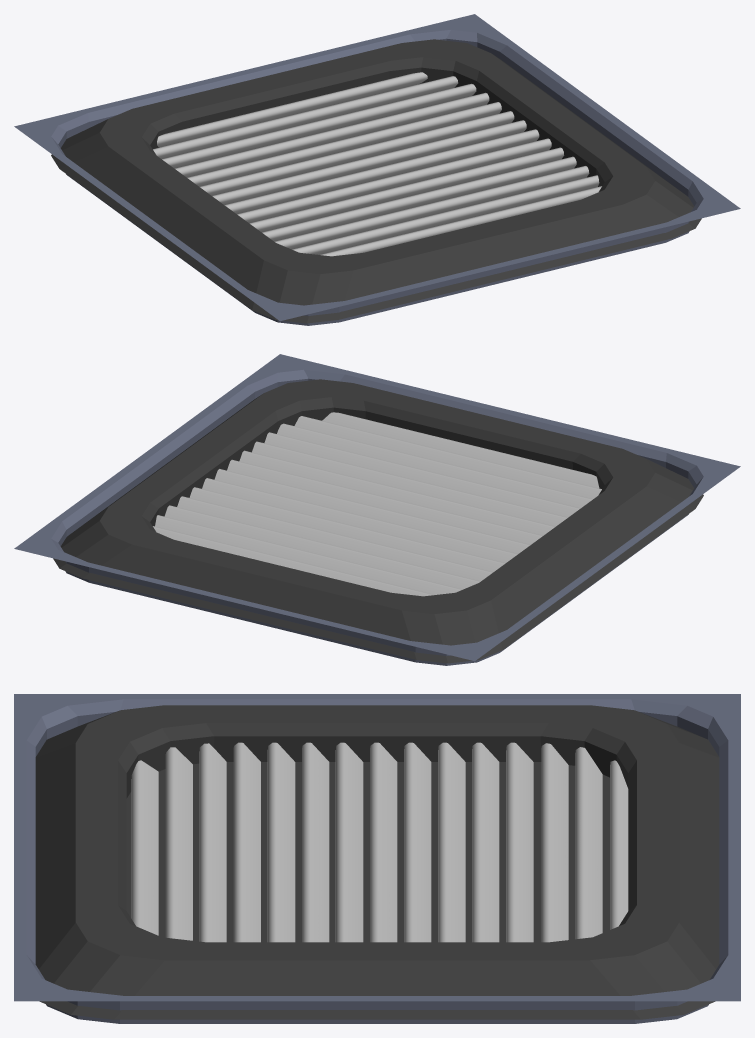
The model's file is AT_SteamVents_Floor.fbx.
The picture shows the model from 3 angles, top to bottom: view 1: azimuth 30°, elevation 25°; view 2: azimuth 150°, elevation 25°; view 3: azimuth 270°, elevation 25°; orthographic projection. The views are drawn at different scales.
Parts seen in each view (by area): view 1: Cube.6095; view 2: Cube.6095; view 3: Cube.6095.
Part boxes in pixels (box(x1,y1,x2,y2)): Cube.6095: box(14, 14, 740, 325); Cube.6095: box(14, 354, 740, 665); Cube.6095: box(14, 694, 740, 1023).
Bounding box in the file's own units: 2 × 0.1576 × 2.
